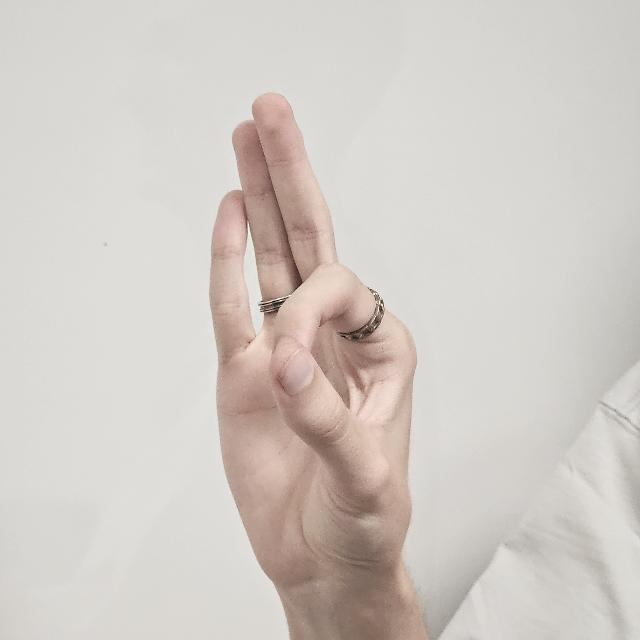Bolinha: (210, 89, 424, 593)
